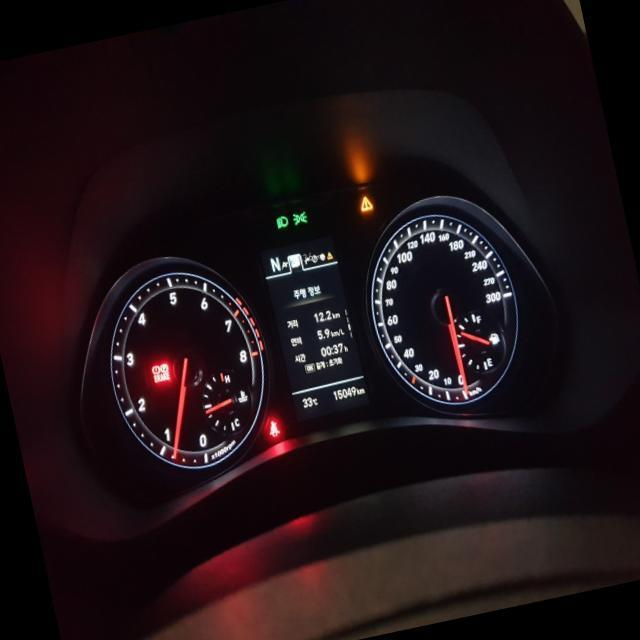Central Warning lamp: (357, 194, 372, 212)
Low beam: (274, 214, 288, 228)
SideLamp: (290, 210, 308, 224)
